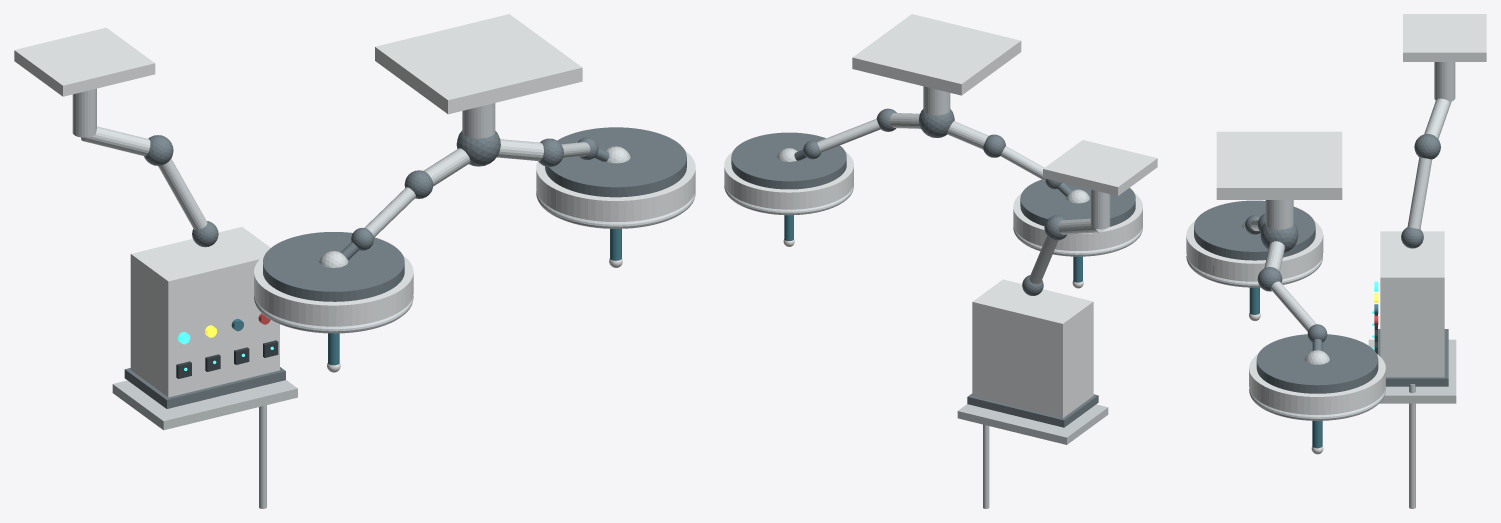
File: light-pendant-system.glb
3 views of the same model, side by side, from view 1: azimuth 30°, elevation 25°; view 2: azimuth 150°, elevation 25°; view 3: azimuth 270°, elevation 25° (orthographic). The views are drawn at different scales.
Parts seen in each view (by area): view 1: pendant_service_head, ceiling_mount_plate, light_0_rear_shell, light_1_rear_shell, pendant_ceiling_plate, light_0_housing, light_1_housing, pendant_shelf, pendant_bottom_panel, pendant_arm_lower, light_0_outer_rim, light_1_outer_rim (+8 smaller); view 2: pendant_service_head, ceiling_mount_plate, light_1_rear_shell, pendant_ceiling_plate, light_1_housing, light_0_rear_shell, pendant_shelf, light_0_housing, pendant_bottom_panel, arm_1_segment_2, pendant_drop, light_1_outer_rim (+8 smaller); view 3: pendant_service_head, ceiling_mount_plate, light_1_rear_shell, light_0_rear_shell, pendant_ceiling_plate, light_1_housing, light_0_housing, pendant_shelf, pendant_arm_lower, pendant_bottom_panel, light_1_outer_rim, pendant_drop (+10 smaller).
Part boxes in pixels (x1,y1,x2,y2): pendant_service_head: (130, 227, 279, 397); ceiling_mount_plate: (375, 14, 582, 114); light_0_rear_shell: (263, 232, 404, 301); light_1_rear_shell: (545, 127, 686, 197); pendant_ceiling_plate: (14, 27, 155, 96); light_0_housing: (254, 255, 413, 326); light_1_housing: (536, 151, 695, 221); pendant_shelf: (112, 380, 297, 430); pendant_bottom_panel: (124, 367, 285, 408); pendant_arm_lower: (158, 158, 207, 230); light_0_outer_rim: (254, 296, 413, 333); light_1_outer_rim: (536, 191, 695, 228); pendant_service_head: (972, 279, 1093, 418); ceiling_mount_plate: (852, 14, 1021, 95); light_1_rear_shell: (731, 132, 846, 189); pendant_ceiling_plate: (1043, 140, 1157, 195); light_1_housing: (724, 151, 853, 209); light_0_rear_shell: (1020, 179, 1135, 226); pendant_shelf: (957, 404, 1108, 444); light_0_housing: (1013, 193, 1142, 250); pendant_bottom_panel: (967, 393, 1098, 427); arm_1_segment_2: (817, 118, 880, 152); pendant_drop: (1090, 189, 1110, 229); light_1_outer_rim: (724, 184, 853, 215); pendant_service_head: (1380, 231, 1444, 377); ceiling_mount_plate: (1216, 131, 1342, 199); light_1_rear_shell: (1256, 334, 1378, 393); light_0_rear_shell: (1194, 200, 1315, 260); pendant_ceiling_plate: (1403, 14, 1486, 61); light_1_housing: (1249, 354, 1385, 414); light_0_housing: (1186, 221, 1323, 281); pendant_shelf: (1368, 339, 1456, 403); pendant_arm_lower: (1407, 157, 1432, 229); pendant_bottom_panel: (1378, 329, 1448, 386); light_1_outer_rim: (1249, 389, 1385, 420); pendant_drop: (1434, 62, 1455, 101).
Bounding box in the file's own units: 2.98 × 2.37 × 1.58.
